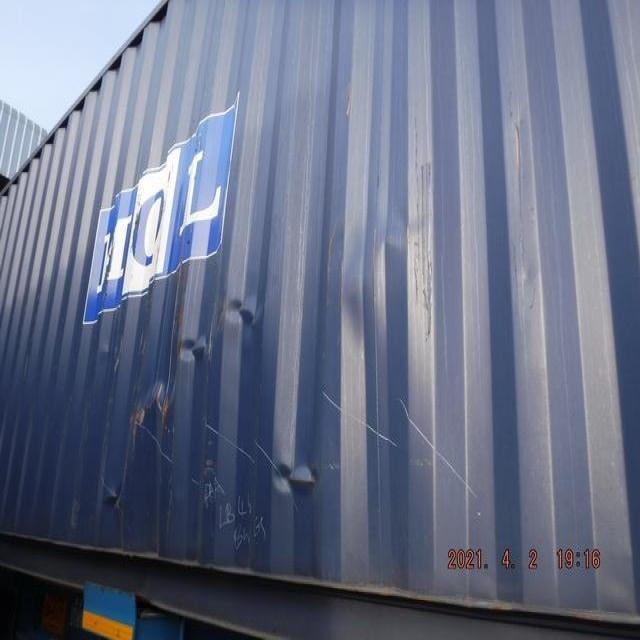Dent: (92, 267, 329, 531)
Minor-Dent: (324, 200, 436, 344)
